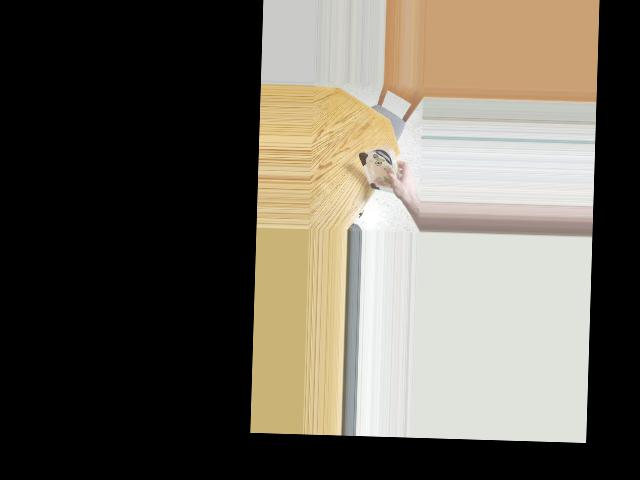cheese: (360, 148, 397, 198)
